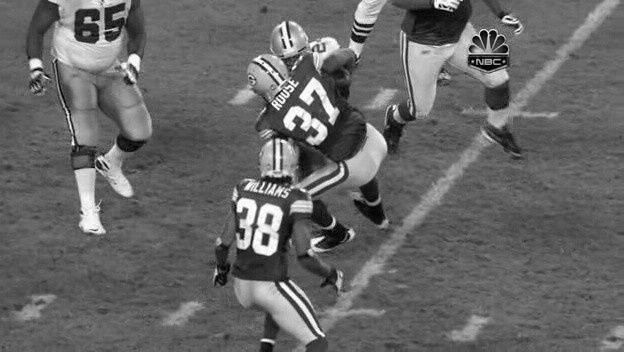person: (272, 33, 306, 76), (271, 33, 305, 76), (273, 33, 307, 76), (272, 32, 306, 75), (272, 34, 306, 77)
target_negative: (441, 106, 595, 236), (96, 225, 172, 349), (440, 131, 482, 295), (544, 80, 558, 349), (257, 137, 278, 232), (362, 284, 511, 288)
